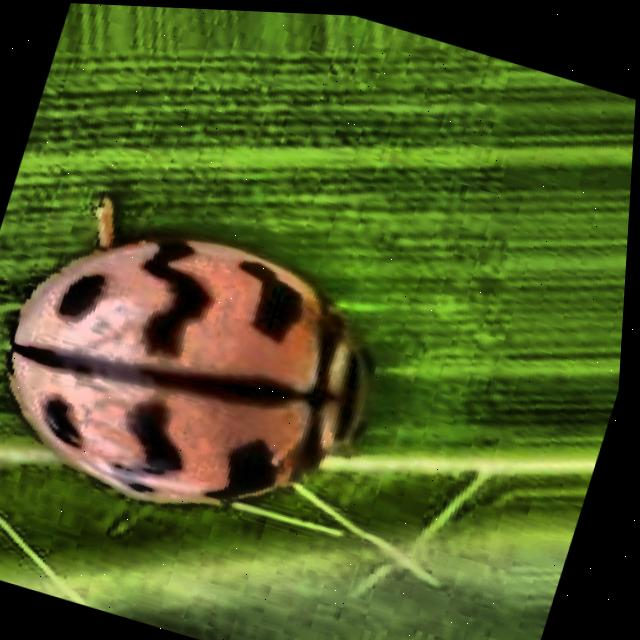Asian-Lady-beetle: (0, 94, 464, 597)
